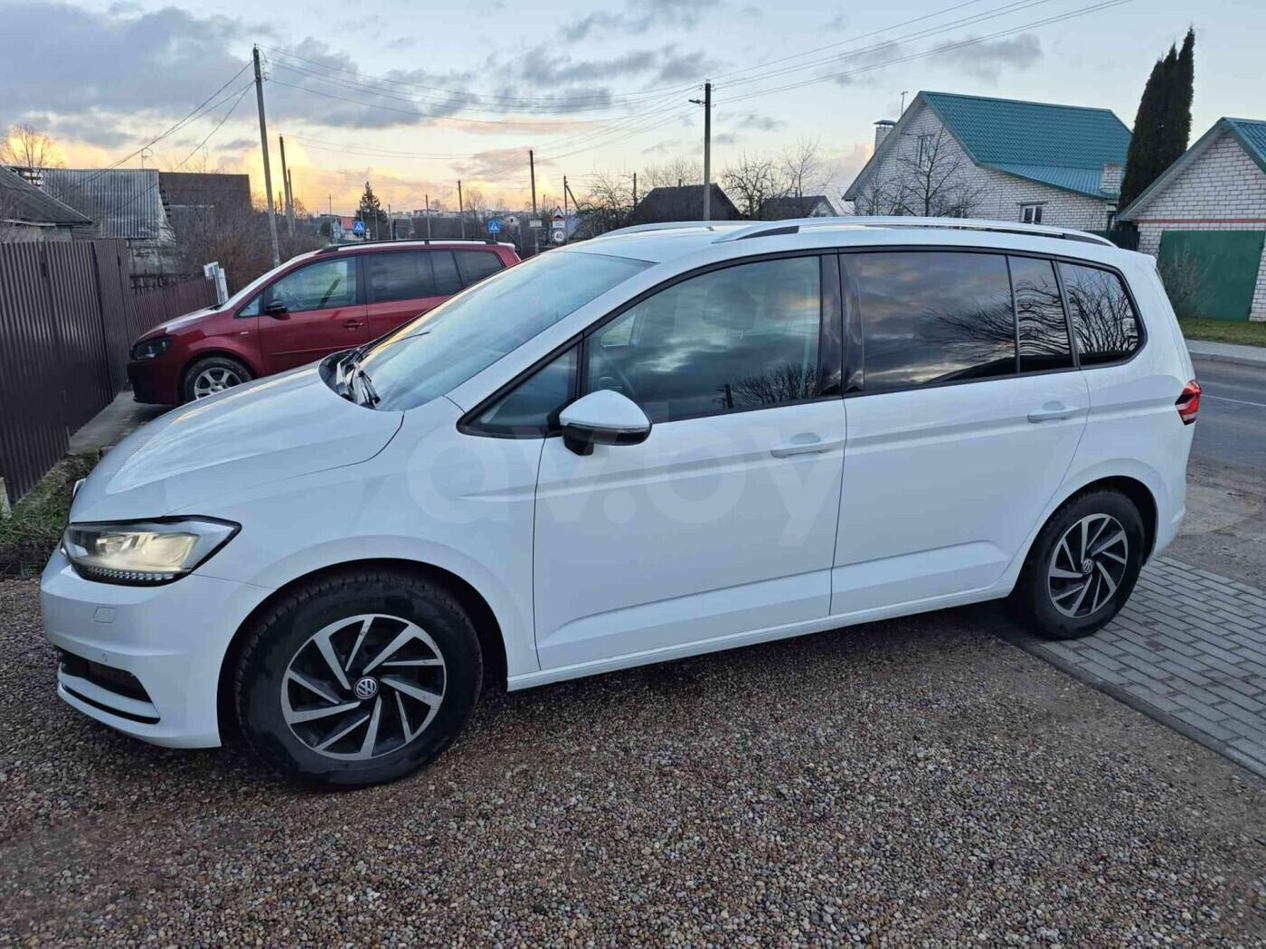Touran_2015: (32, 213, 1201, 788)
